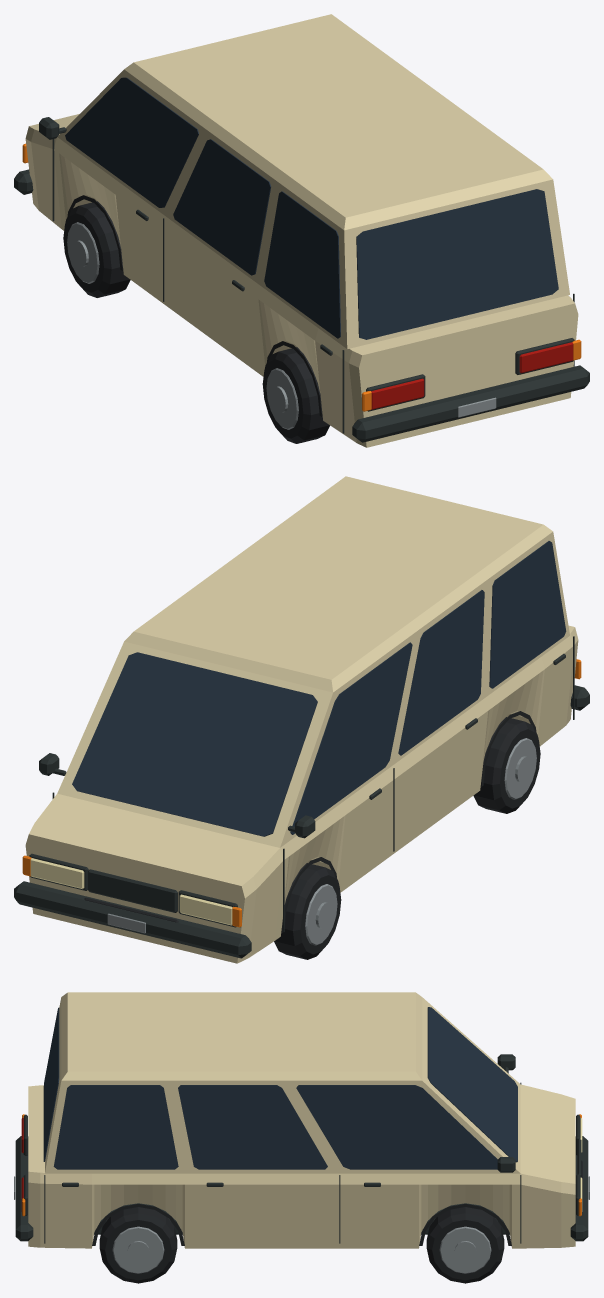
File: 07_Minivan.fbx
The picture shows the model from 3 angles, top to bottom: view 1: azimuth 30°, elevation 25°; view 2: azimuth 150°, elevation 25°; view 3: azimuth 270°, elevation 25°; orthographic projection. The views are drawn at different scales.
Parts seen in each view (by area): view 1: Raked cabin with chamfered roof.006, Continuous body with open wheel arches.007, Framed rear windshield.006, Side glass -1 pane 2.001, Side glass -1 pane 1.005, Side glass -1 pane 0.006, Moulded bumper.013, WheelFL_ShapedSidewall.006, WheelRL_ShapedSidewall.006, WheelFL_Rim.006, WheelRL_Rim.006, Tail lamp.013 (+1 smaller); view 2: Raked cabin with chamfered roof.006, Continuous body with open wheel arches.007, Framed opaque windshield.006, Side glass -1 pane 2.001, Side glass -1 pane 1.005, Side glass -1 pane 0.006, Moulded bumper.012, WheelRL_ShapedSidewall.006, WheelFL_ShapedSidewall.006, Inset radiator grille.006, WheelRL_Rim.006, WheelFL_Rim.006 (+2 smaller); view 3: Raked cabin with chamfered roof.006, Continuous body with open wheel arches.007, Side glass 1 pane 2.001, Side glass 1 pane 1.005, Side glass 1 pane 0.006, Framed opaque windshield.006, WheelFR_ShapedSidewall.006, WheelRR_ShapedSidewall.006, WheelFR_Rim.006, WheelRR_Rim.006, Framed rear windshield.006, Moulded bumper.013 (+3 smaller).
Boxes of the visible parts, x1,y1,x2,y2 form: Raked cabin with chamfered roof.006: (57, 14, 569, 349); Continuous body with open wheel arches.007: (25, 114, 578, 447); Framed rear windshield.006: (356, 189, 558, 339); Side glass -1 pane 2.001: (65, 77, 198, 207); Side glass -1 pane 1.005: (173, 139, 271, 275); Side glass -1 pane 0.006: (264, 191, 340, 338); Moulded bumper.013: (352, 365, 589, 442); WheelFL_ShapedSidewall.006: (63, 201, 130, 297); WheelRL_ShapedSidewall.006: (262, 347, 329, 443); WheelFL_Rim.006: (67, 222, 99, 283); WheelRL_Rim.006: (266, 368, 298, 429); Tail lamp.013: (519, 342, 573, 373); Raked cabin with chamfered roof.006: (57, 476, 569, 847); Continuous body with open wheel arches.007: (25, 625, 578, 963); Framed opaque windshield.006: (72, 652, 317, 836); Side glass -1 pane 2.001: (290, 642, 412, 834); Side glass -1 pane 1.005: (398, 590, 484, 755); Side glass -1 pane 0.006: (489, 541, 566, 688); Moulded bumper.012: (14, 881, 251, 958); WheelRL_ShapedSidewall.006: (473, 717, 540, 813); WheelFL_ShapedSidewall.006: (274, 863, 341, 959); Inset radiator grille.006: (88, 869, 177, 912); WheelRL_Rim.006: (504, 738, 536, 799); WheelFL_Rim.006: (305, 884, 337, 945); Raked cabin with chamfered roof.006: (45, 992, 520, 1173); Continuous body with open wheel arches.007: (28, 1084, 575, 1248); Side glass 1 pane 2.001: (296, 1085, 497, 1169); Side glass 1 pane 1.005: (178, 1085, 327, 1169); Side glass 1 pane 0.006: (53, 1085, 178, 1169); Framed opaque windshield.006: (427, 1007, 517, 1162); WheelFR_ShapedSidewall.006: (426, 1207, 504, 1283); WheelRR_ShapedSidewall.006: (99, 1207, 177, 1283); WheelFR_Rim.006: (439, 1226, 491, 1273); WheelRR_Rim.006: (112, 1226, 164, 1273); Framed rear windshield.006: (43, 1007, 59, 1161); Moulded bumper.013: (15, 1136, 33, 1241).
Bounding box in the file's own units: 216 × 193 × 490.
